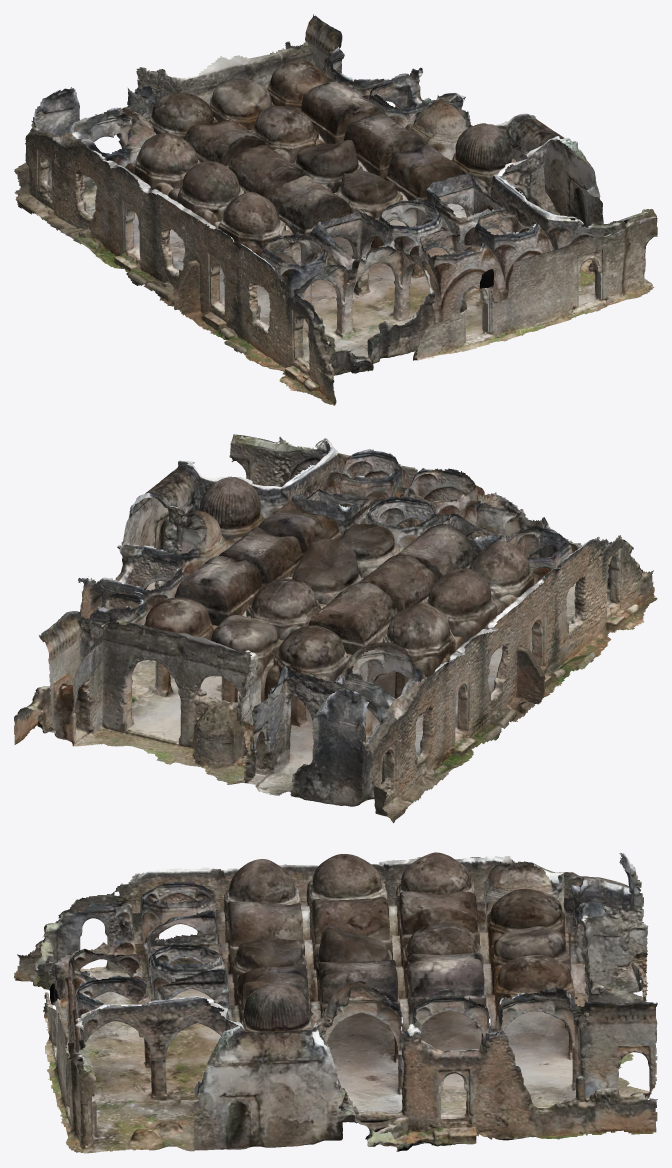
File: preview.glb
3 views of the same model, one above another, from view 1: azimuth 30°, elevation 25°; view 2: azimuth 150°, elevation 25°; view 3: azimuth 270°, elevation 25° (orthographic). The views are drawn at different scales.
Visible parts, largest first — view 1: Kilwa_Kisiwani_Kilwa_Kisiwani_0; view 2: Kilwa_Kisiwani_Kilwa_Kisiwani_0; view 3: Kilwa_Kisiwani_Kilwa_Kisiwani_0.
Boxes of the visible parts, x1,y1,x2,y2 form: Kilwa_Kisiwani_Kilwa_Kisiwani_0: (14, 14, 657, 405); Kilwa_Kisiwani_Kilwa_Kisiwani_0: (14, 434, 657, 823); Kilwa_Kisiwani_Kilwa_Kisiwani_0: (14, 852, 657, 1153).
Size of the model in its own units: 23.34 by 7.31 by 30.13.
1 material, 1 textured.
